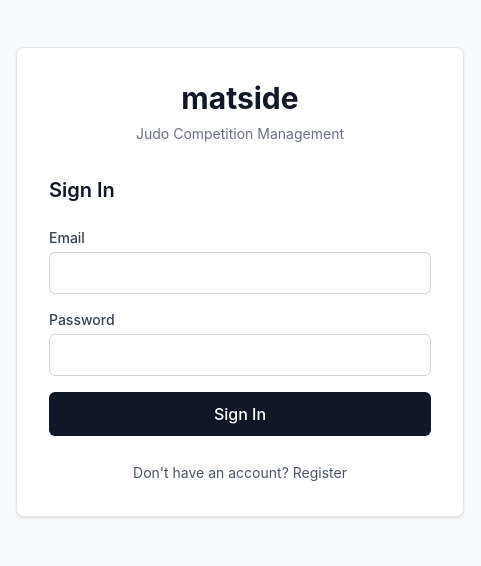
Scenario: LoginPage › shows error message when login fails
Step 1. Type "user@test.com" into the field labelled "Email" → coordinates (240, 273), box [49,252,431,294]
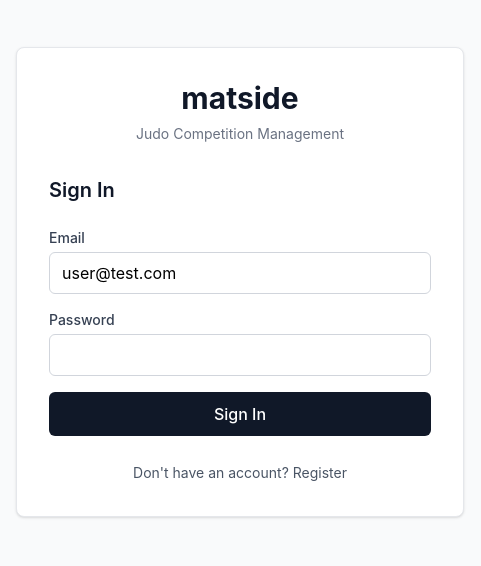
Step 2. Type "wrong" into the password field labelled "Password" → coordinates (240, 355), box [49,334,431,376]
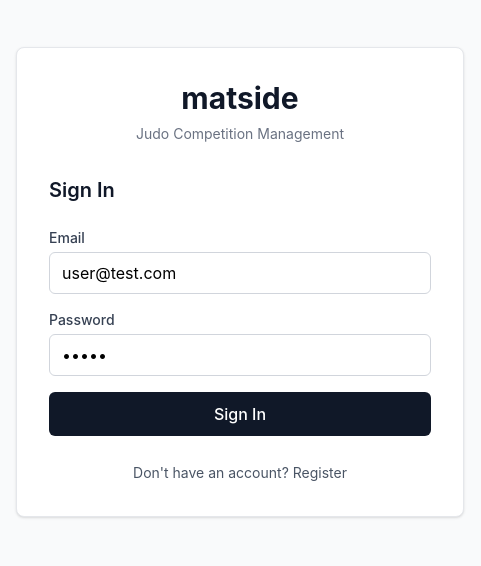
Step 3. Click the button "Sign In" → coordinates (240, 414), box [49,392,431,436]
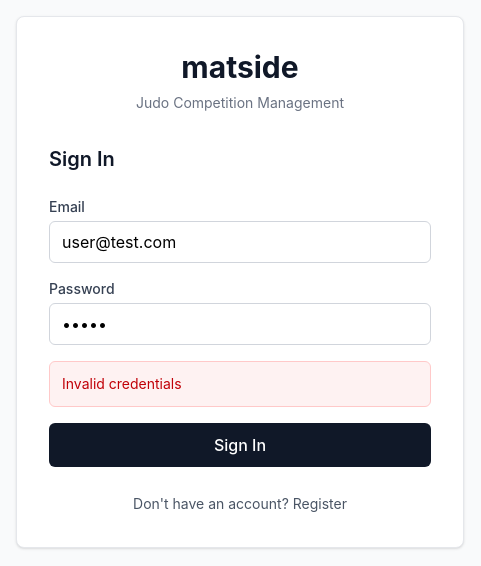
Check: the text "Invalid credentials" is shown, box [49,361,431,407]
